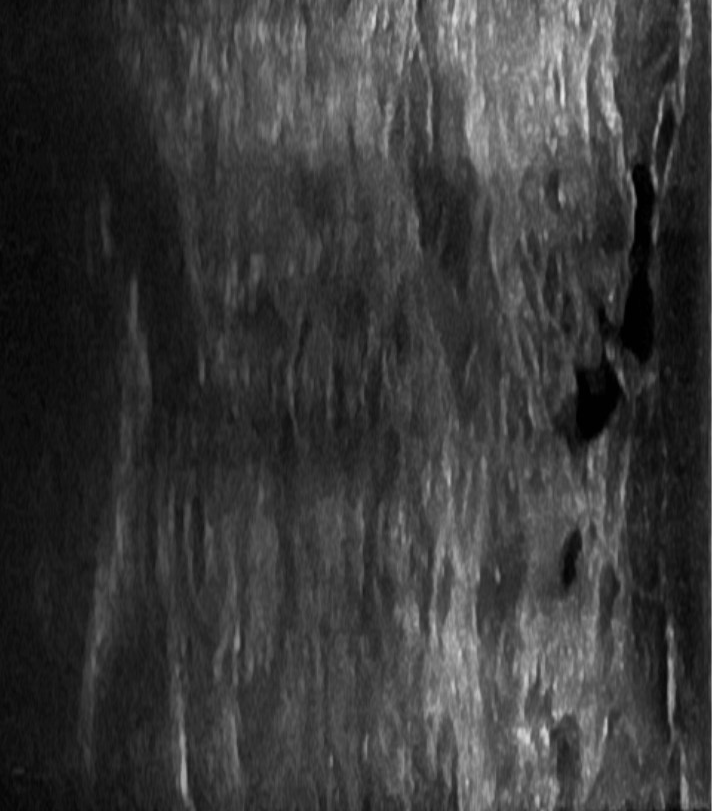Normal: (29, 0, 682, 805)
